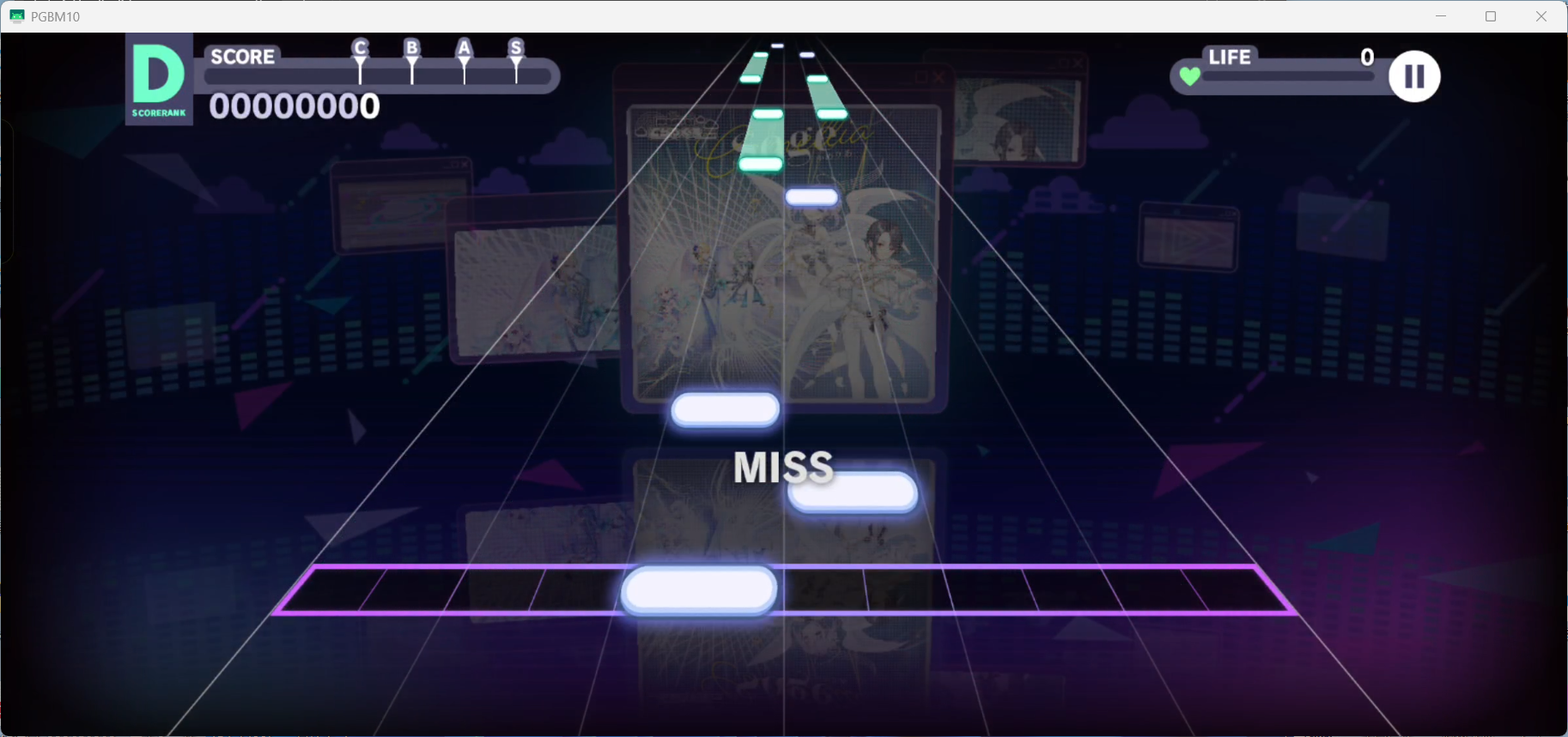hold: (741, 121, 784, 157), (806, 82, 845, 108), (743, 57, 768, 75)
tap: (621, 565, 777, 617), (787, 473, 919, 513), (672, 393, 780, 428), (786, 189, 839, 207), (739, 158, 781, 171), (752, 109, 783, 119), (817, 110, 848, 118), (806, 75, 829, 82), (739, 75, 761, 82), (753, 51, 769, 57), (799, 51, 815, 57), (770, 43, 784, 48)
